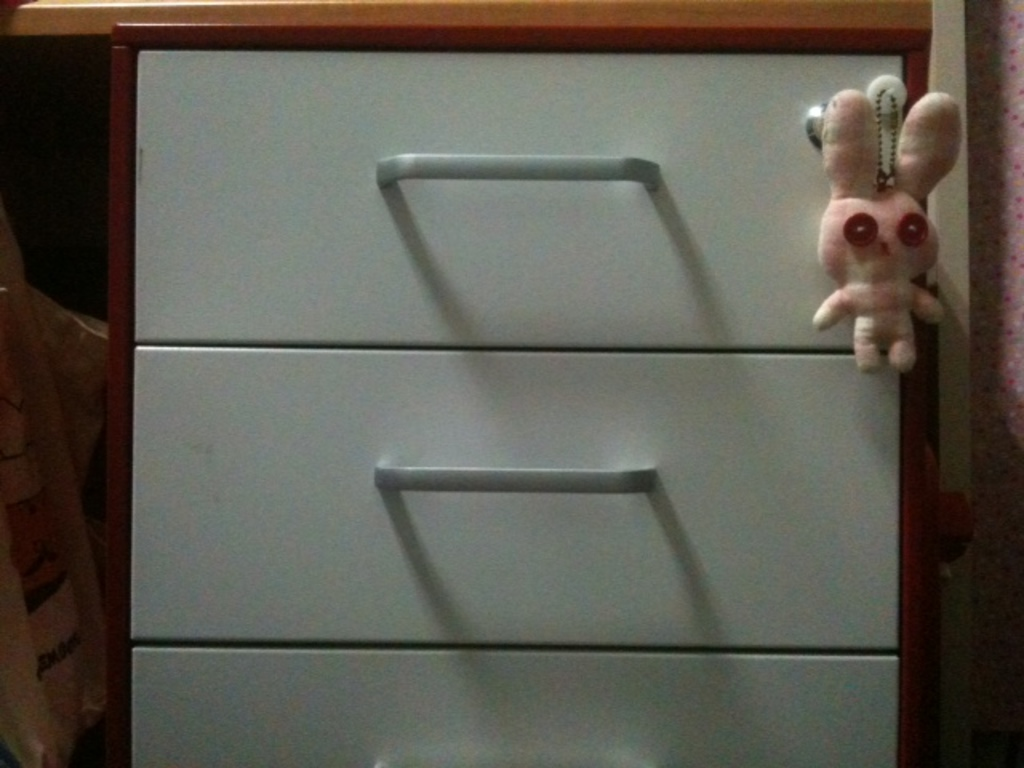cabinet door: (138, 355, 895, 647), (142, 55, 893, 341), (129, 655, 897, 768)
handle: (373, 447, 658, 506), (362, 150, 664, 197)
